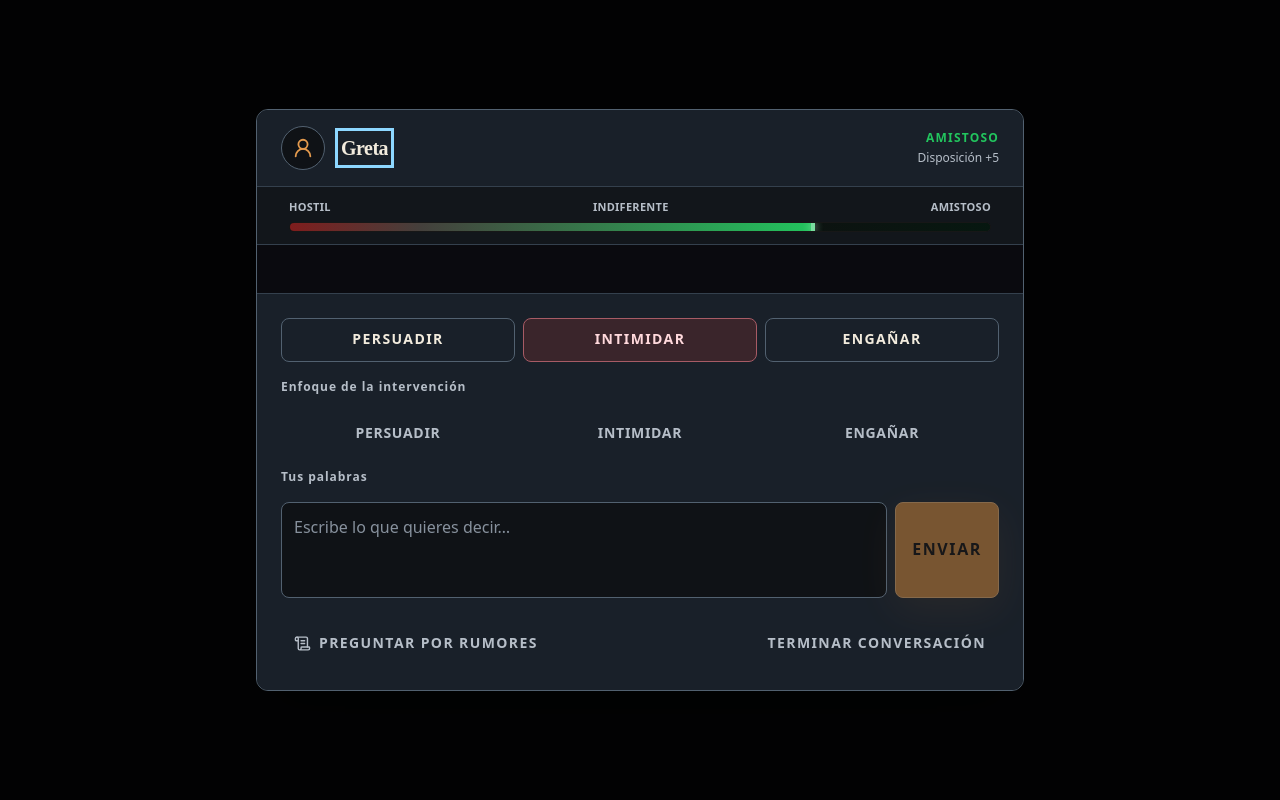
Test case: DialogueOverlayController › shows the resolved roll and the new disposition
This screenshot has width=1280, height=800.
Click the 1st button "Persuadir" at [398, 340], box [281,318,515,362]
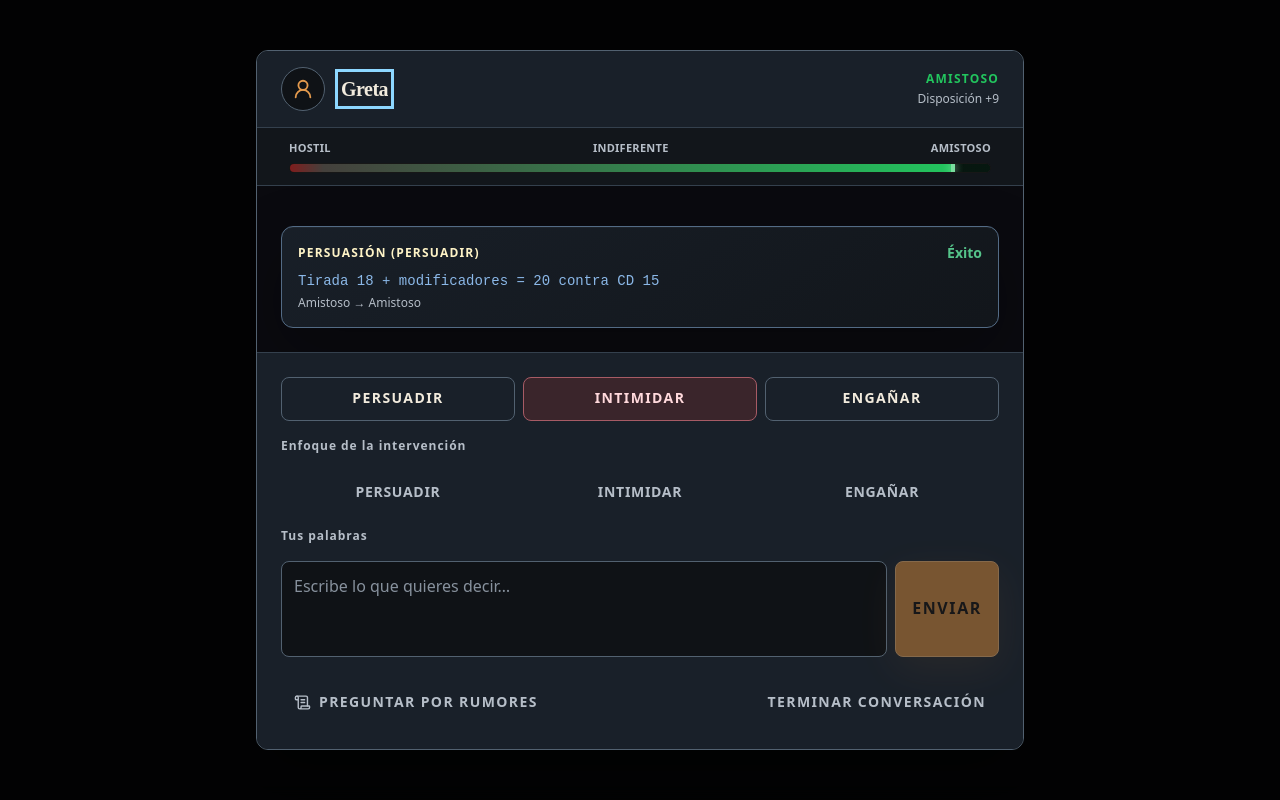
Check: the text "Tirada 18 + modificadores = 20 contra CD 15" is shown, box [298,273,659,289]
Check: the text "Disposición +9" is shown, box [918,91,999,107]
